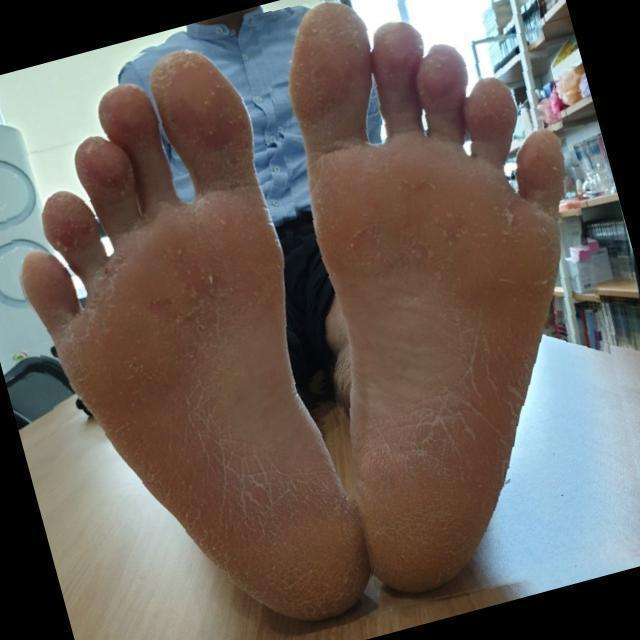No_Shoes: (286, 6, 602, 624), (31, 26, 278, 639)
